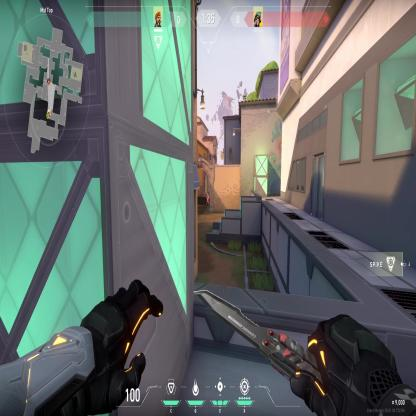enemy: (206, 191, 210, 213)
